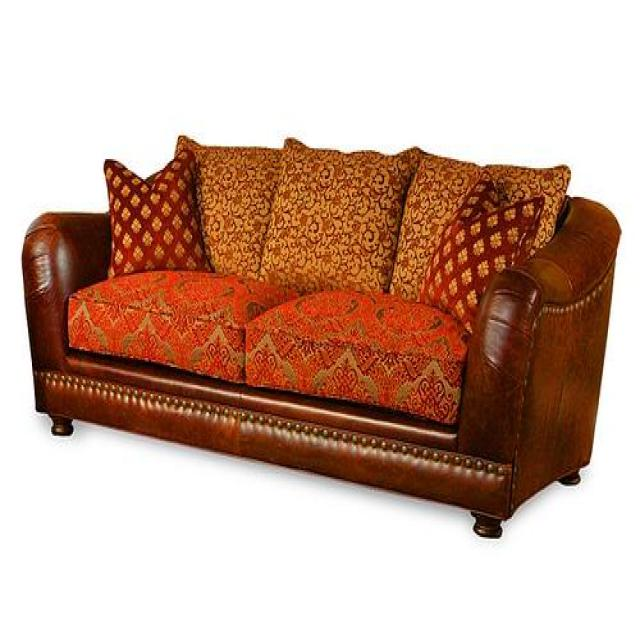sofa: (22, 136, 624, 534)
